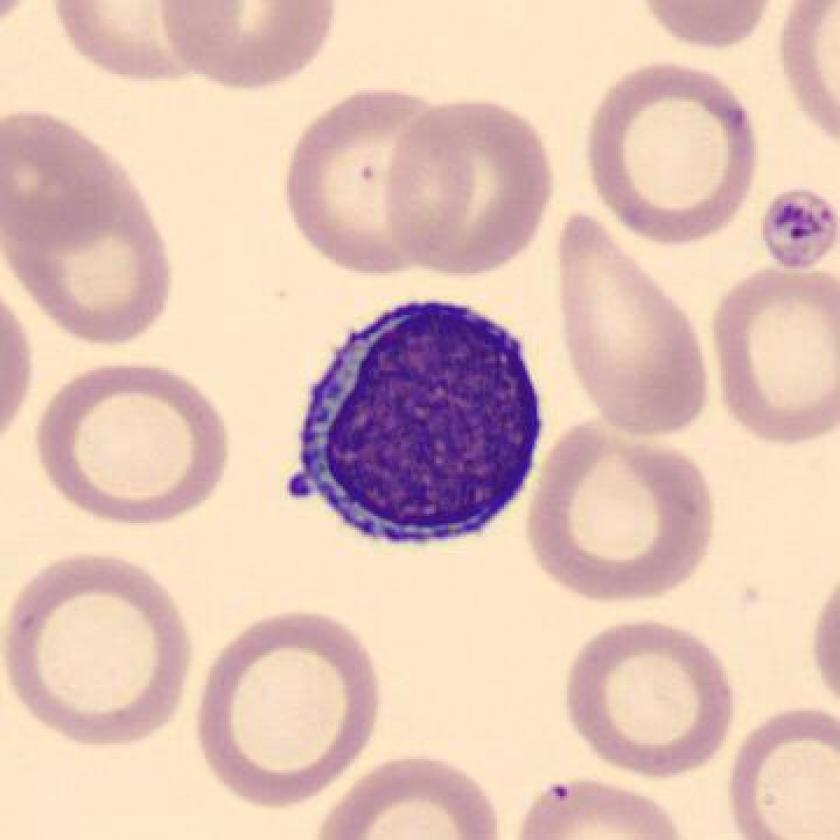lymphocyte: (274, 288, 552, 570)
